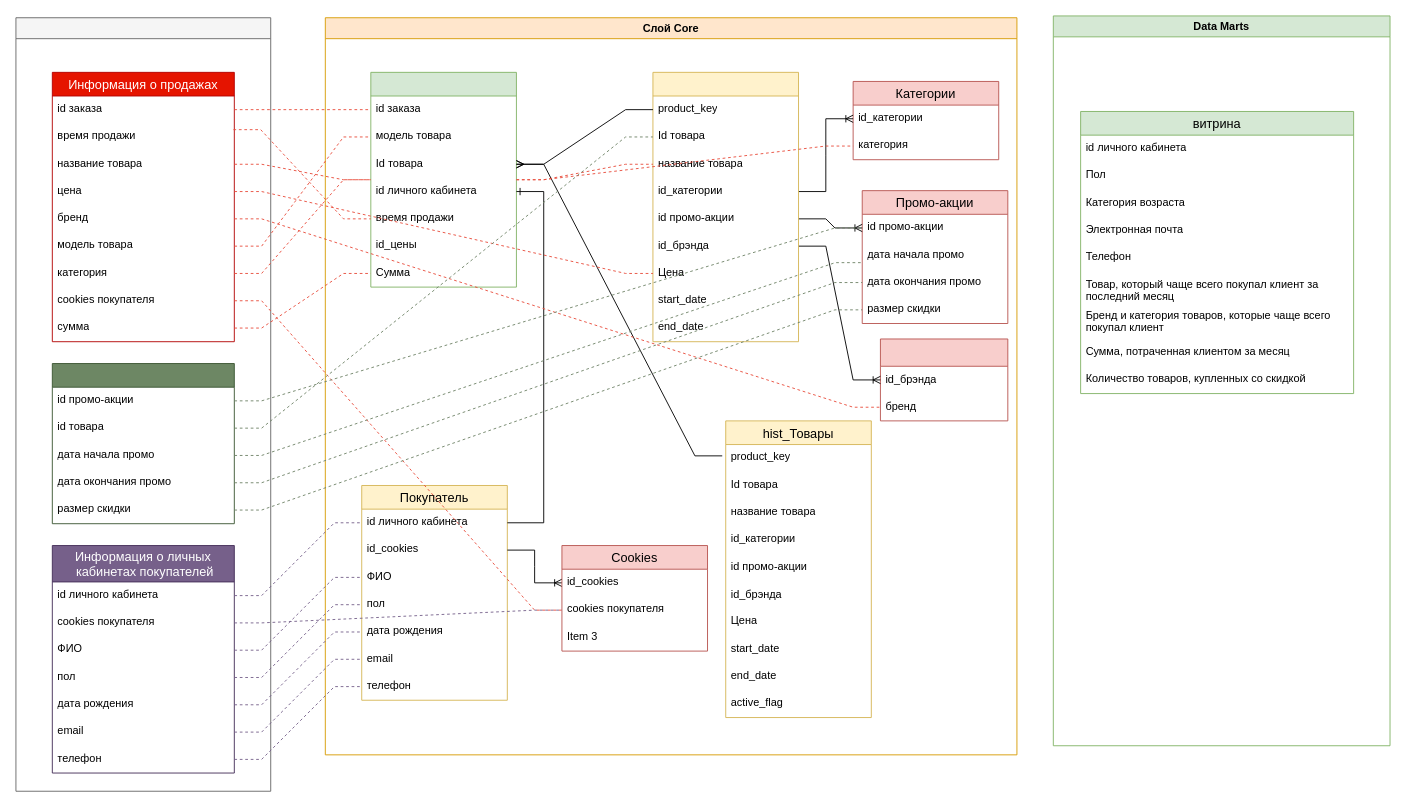
The diagram is 1406 pixels wide and 807 high, and some of its shapes have lost their labels. The shapes that lost their labels are listed below. From the top down, each one's box as (x1, y1, x2, y2) in pixels, then its label:
(370, 71, 516, 287): fct_Продажи
(652, 71, 799, 342): Товары
(880, 338, 1008, 421): Брэнды
(15, 17, 271, 791): Слой Raw
(51, 363, 234, 524): Информация о промо-акциях
